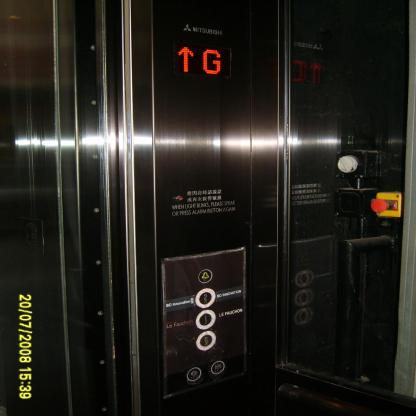1: (195, 309, 216, 329)
2: (193, 288, 216, 308)
G: (194, 330, 216, 350)
alarm: (197, 268, 213, 283)
close: (210, 360, 225, 374)
led: (170, 40, 233, 82), (288, 54, 334, 86)
open: (186, 367, 201, 381)
unknown: (333, 186, 378, 218), (370, 191, 404, 219), (335, 150, 366, 178)
